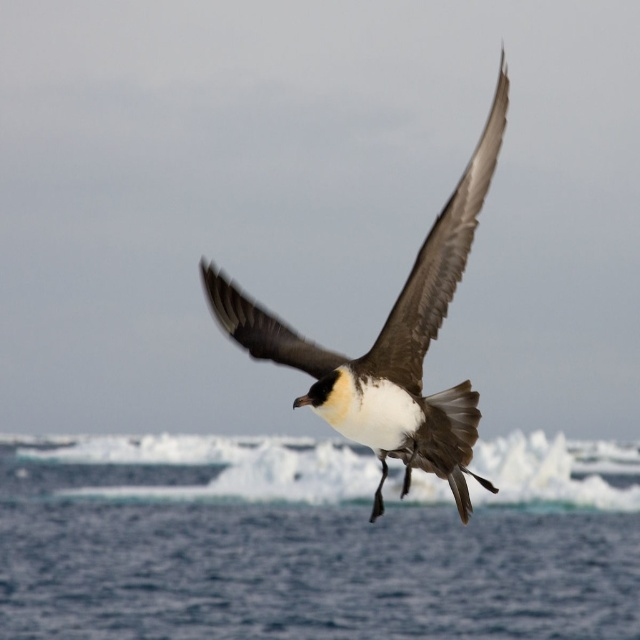Eagle: (196, 33, 509, 527)
